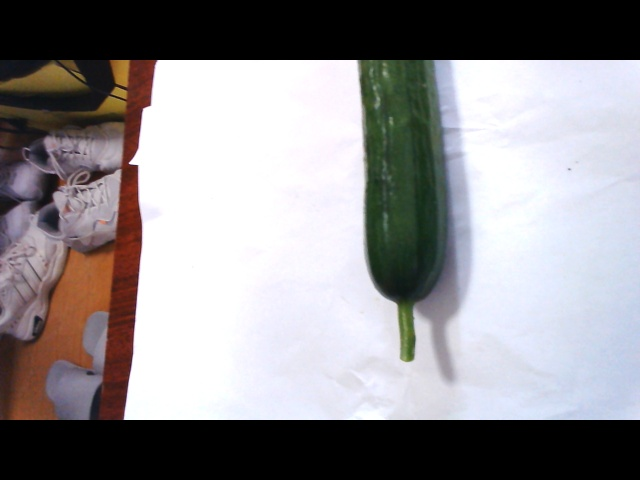cucumber: (346, 60, 454, 374)
